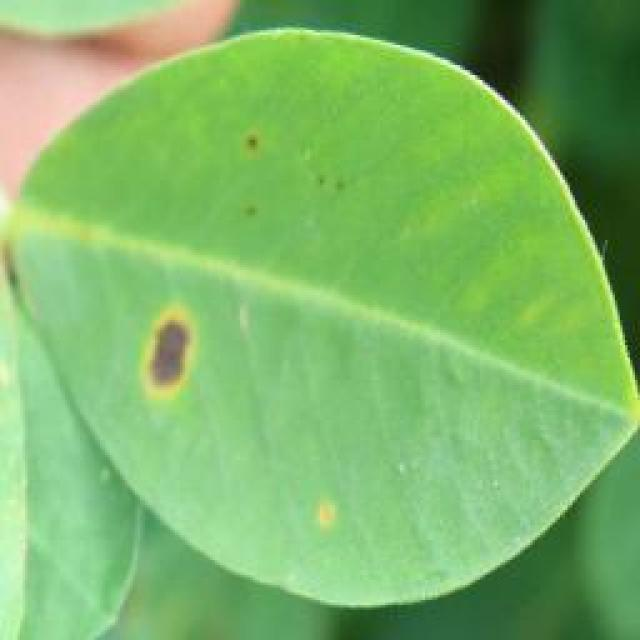Early_leaf_spot: (206, 118, 350, 223), (117, 264, 221, 405), (268, 450, 369, 560)
